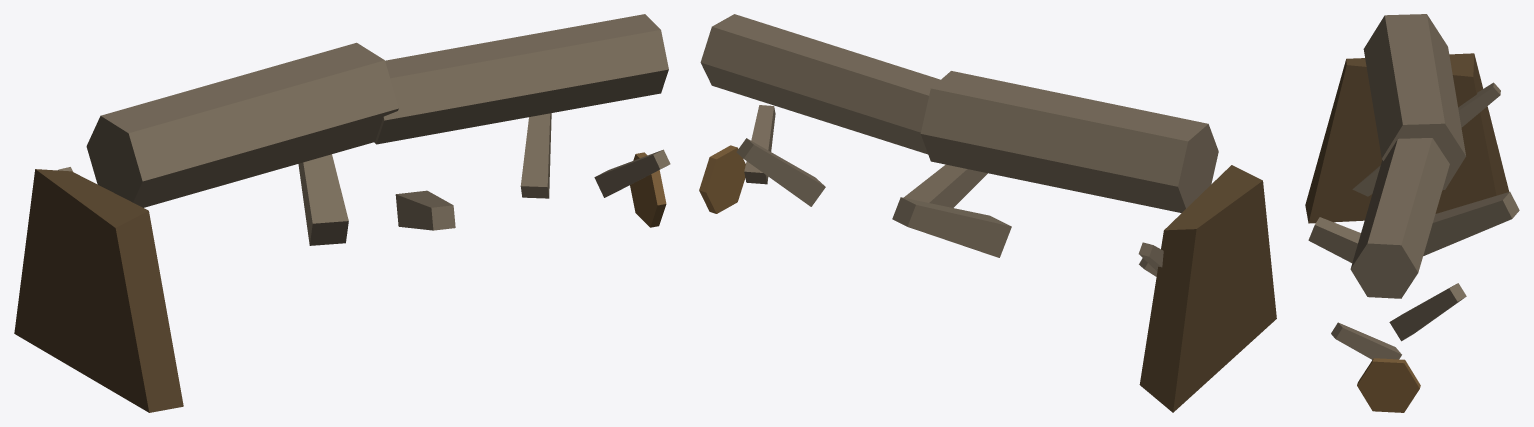
Rendered from fallen_tree.glb.
3 renders of one model, left to right at view 1: azimuth 30°, elevation 25°; view 2: azimuth 150°, elevation 25°; view 3: azimuth 270°, elevation 25°, orthographic. The views are drawn at different scales.
Parts seen in each view (by area): view 1: bole0, plate, bole1, branch, branch.002, branch.001, branch.003, cut; view 2: bole0, plate, bole1, branch, cut, branch.002, branch.001, branch.003; view 3: plate, bole0, bole1, branch, cut, branch.002, branch.001, branch.003, root.001, root.003.
Boxes of the visible parts, x1,y1,x2,y2 form: bole0: (86, 42, 398, 207); plate: (14, 169, 183, 412); bole1: (374, 14, 668, 144); branch: (298, 154, 348, 245); branch.002: (520, 113, 551, 198); branch.001: (395, 190, 455, 230); branch.003: (594, 149, 670, 197); cut: (630, 152, 666, 227); bole0: (920, 71, 1218, 212); plate: (1139, 165, 1276, 412); bole1: (700, 14, 940, 154); branch: (892, 197, 1011, 257); cut: (699, 145, 745, 213); branch.002: (736, 138, 825, 206); branch.001: (904, 164, 987, 207); branch.003: (744, 105, 775, 184); plate: (1305, 53, 1509, 223); bole0: (1363, 14, 1465, 190); bole1: (1350, 138, 1449, 298); branch: (1423, 192, 1519, 255); cut: (1357, 358, 1420, 412); branch.002: (1389, 283, 1466, 341); branch.001: (1308, 217, 1360, 262); branch.003: (1331, 322, 1401, 359); root.001: (1458, 82, 1500, 127); root.003: (1352, 165, 1380, 196).
Bounding box in the file's own units: 68.05 × 28.21 × 26.37.
